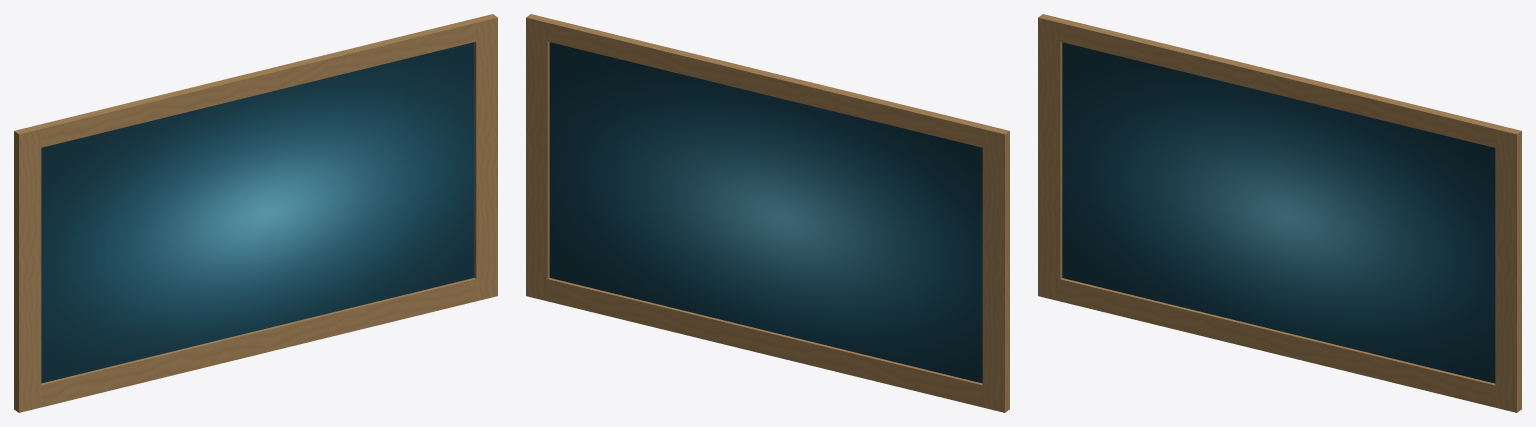
The model's file is Window_Large_A.FBX.
3 renders of one model, left to right at view 1: azimuth 30°, elevation 25°; view 2: azimuth 150°, elevation 25°; view 3: azimuth 330°, elevation 25°, orthographic.
Parts seen in each view (by area): view 1: Window_Large; view 2: Window_Large; view 3: Window_Large.
Boxes of the visible parts, box(x1,y1,x2,y2) form: Window_Large: box(14, 14, 497, 412); Window_Large: box(526, 14, 1009, 412); Window_Large: box(1038, 14, 1521, 412).
Size of the model in its own units: 450 by 250 by 8.
